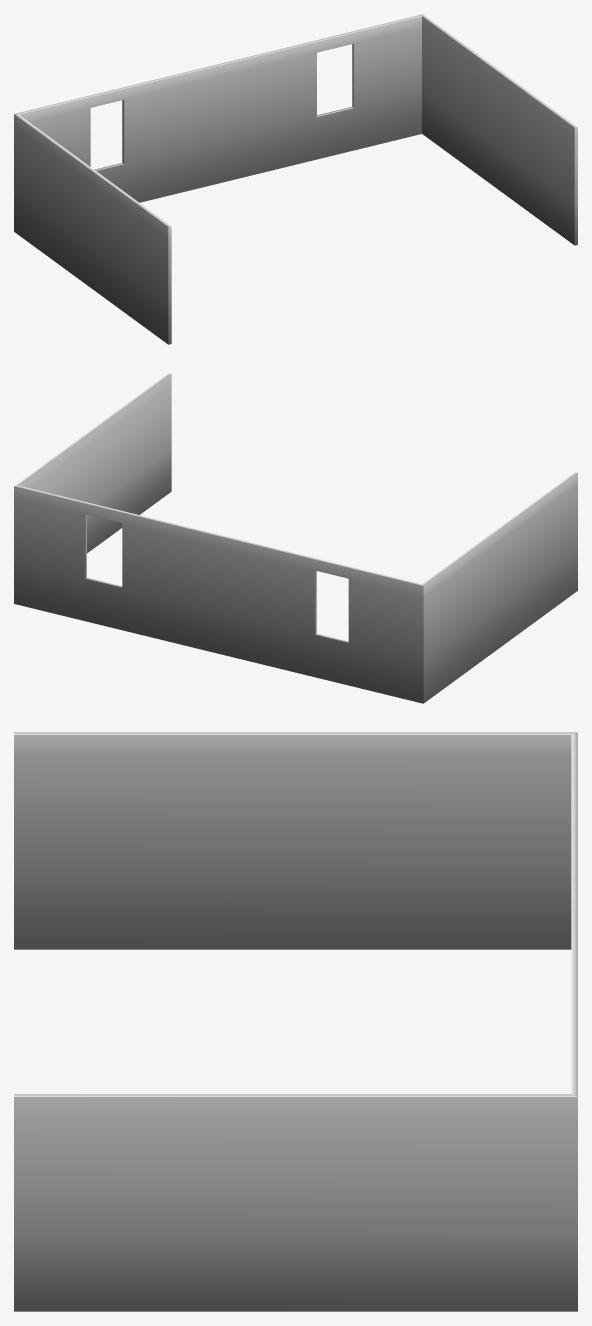
Rendered from KitchenWalls.fbx.
The picture shows the model from 3 angles, top to bottom: view 1: azimuth 30°, elevation 25°; view 2: azimuth 150°, elevation 25°; view 3: azimuth 270°, elevation 25°; orthographic projection. The views are drawn at different scales.
Parts seen in each view (by area): view 1: Walls; view 2: Walls; view 3: Walls.
Boxes of the visible parts, x1=… form: Walls: x1=14, y1=14, x2=577, y2=344; Walls: x1=14, y1=373, x2=577, y2=703; Walls: x1=14, y1=732, x2=577, y2=1311.
Bounding box in the file's own units: 1281 × 352 × 837.
Materials: 1 (1 with a texture image).
